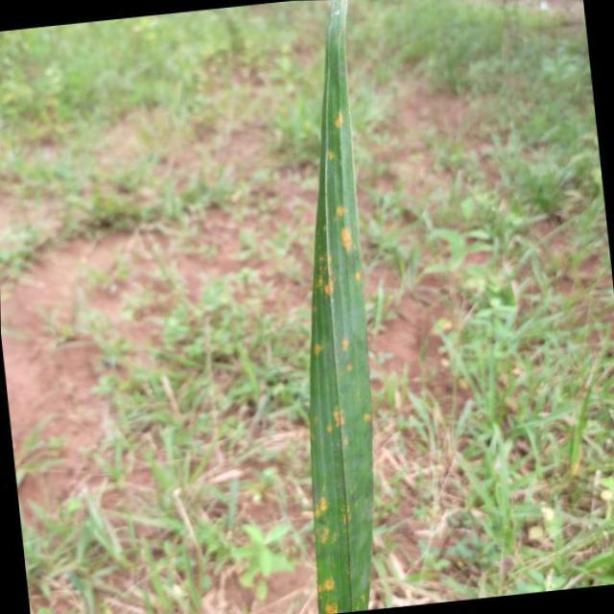Kalium: (310, 0, 376, 614)
